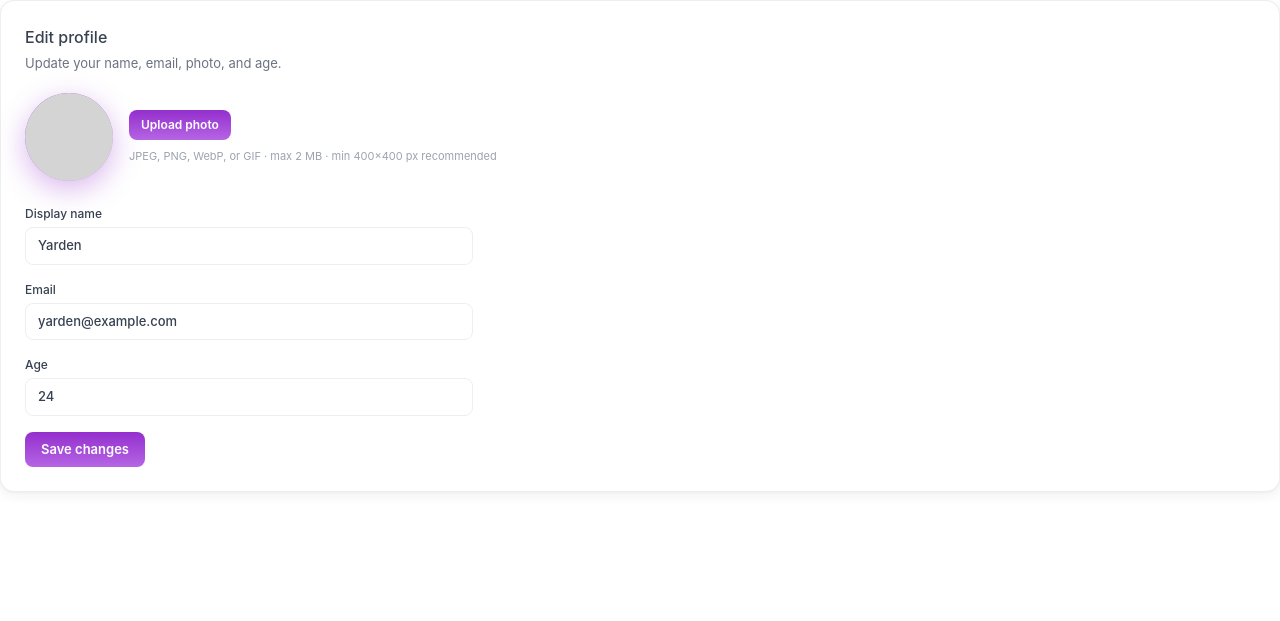
Scenario: EditProfileForm › requires the current password when the email changes
Replace the text in the field showing "yarden@example.com" with "new@example.com" at [249, 321], box [25,302,473,340]
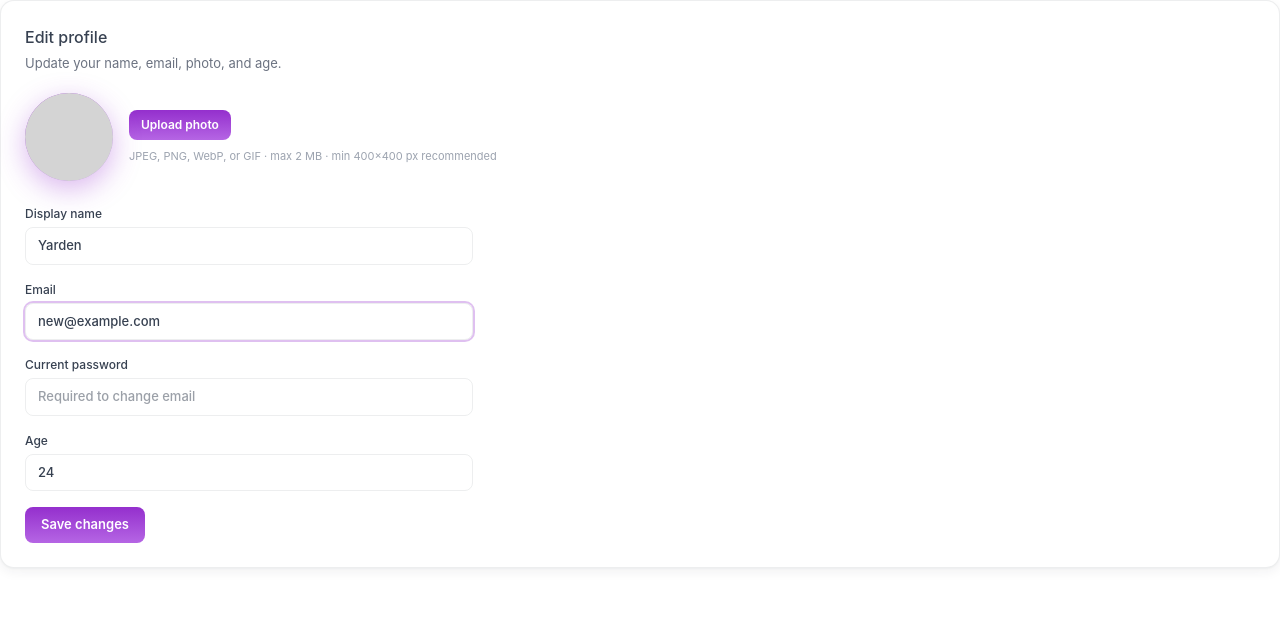
Check: the password field with placeholder "Required to change email" is shown, box [25,378,473,416]
Submit the form, box [25,205,473,542]
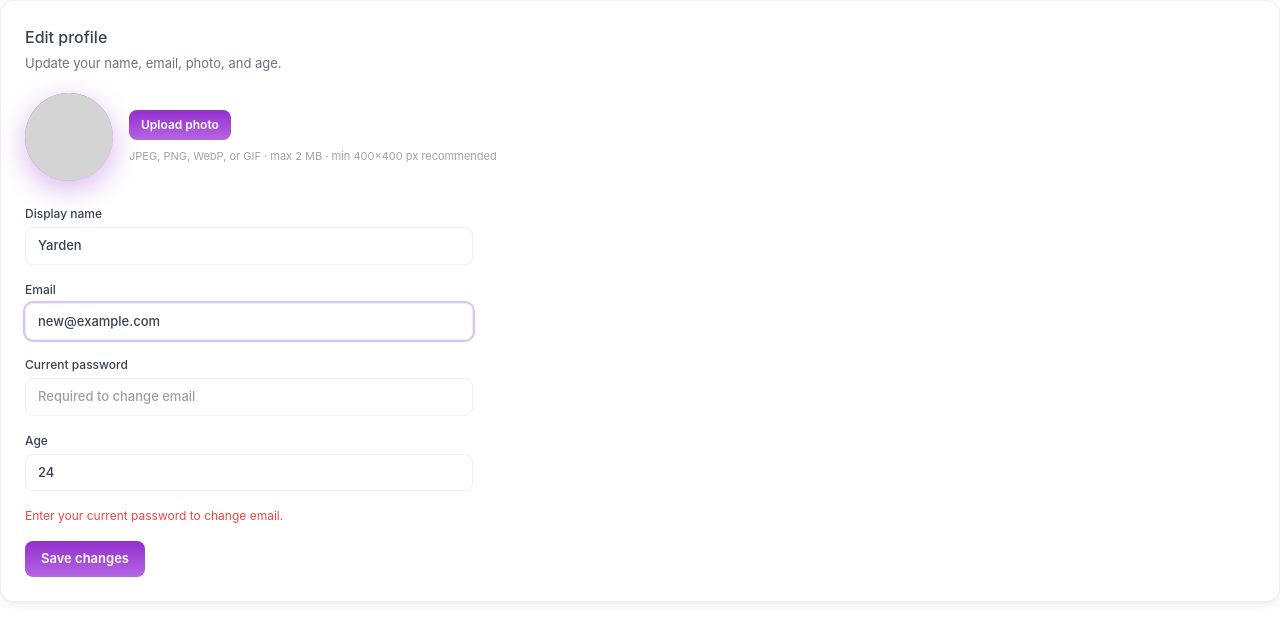
Check: the text "Enter your current password to change email." is shown, box [25,508,283,523]
